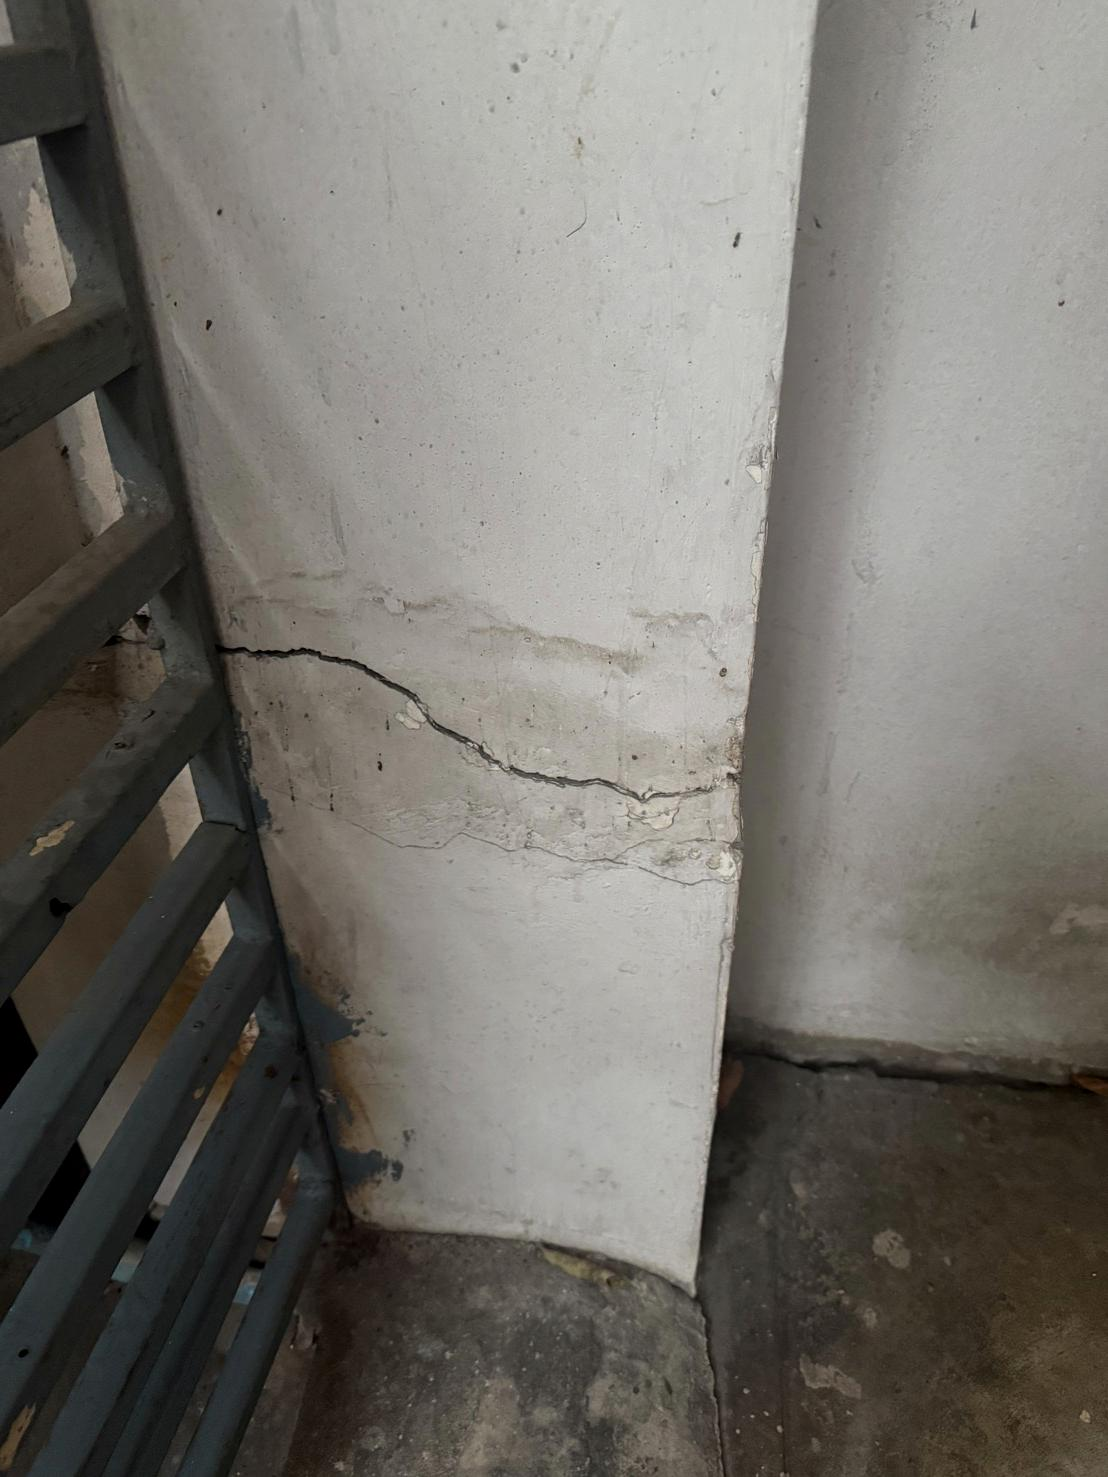High: (209, 595, 751, 919)
